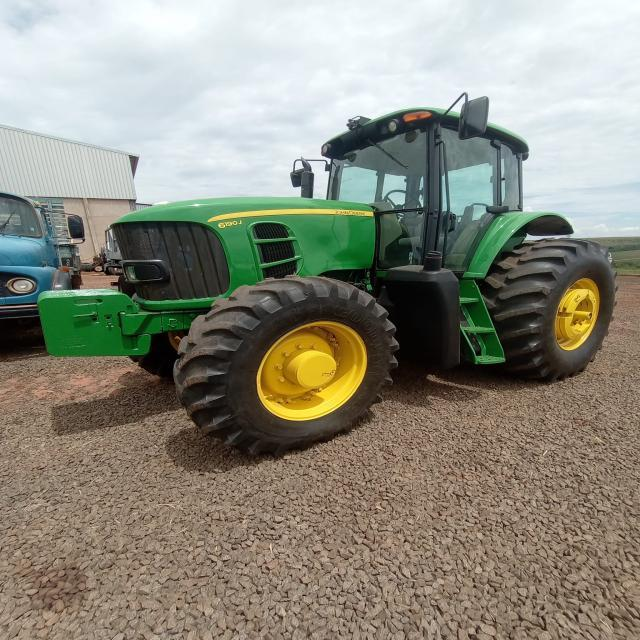Tratores - v5 YOLO V8L 2024-11-13: (26, 87, 618, 460)
